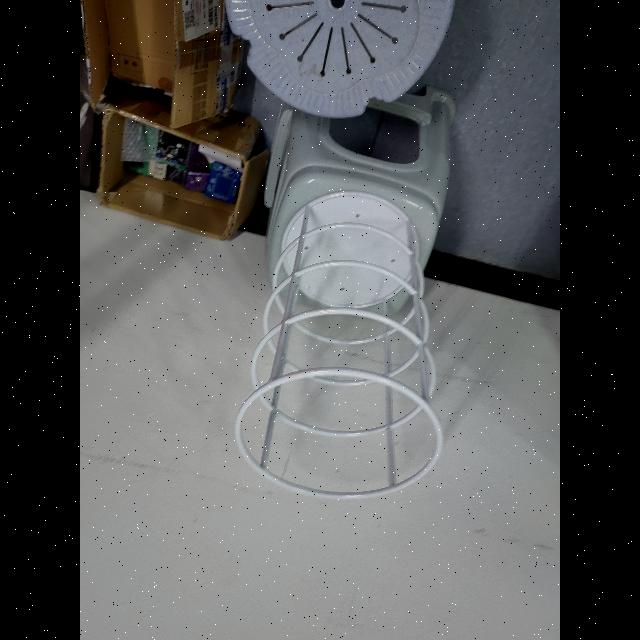S: (233, 190, 447, 502)
